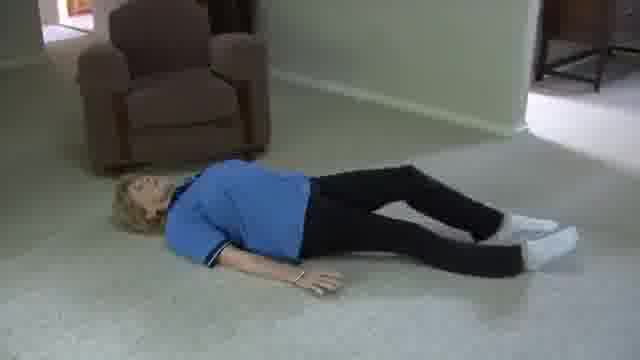falling: (98, 148, 571, 307)
